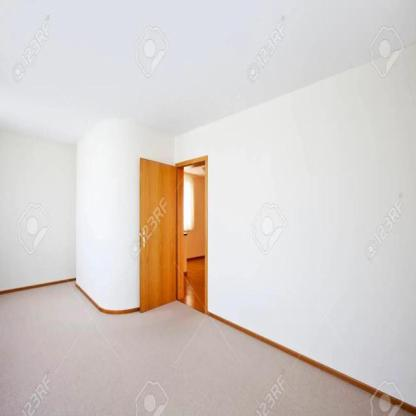door: (133, 153, 216, 315)
